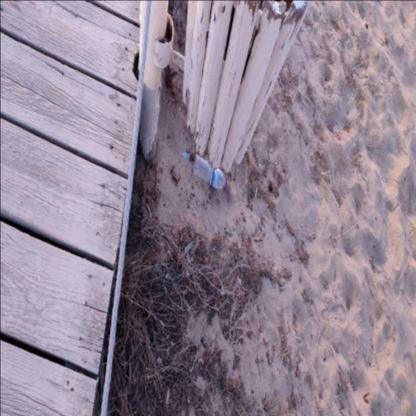Bottle cap: (193, 154, 228, 190)
Cigarette: (181, 37, 185, 43), (287, 93, 291, 97)
Unlabeled litter: (182, 152, 189, 160)
